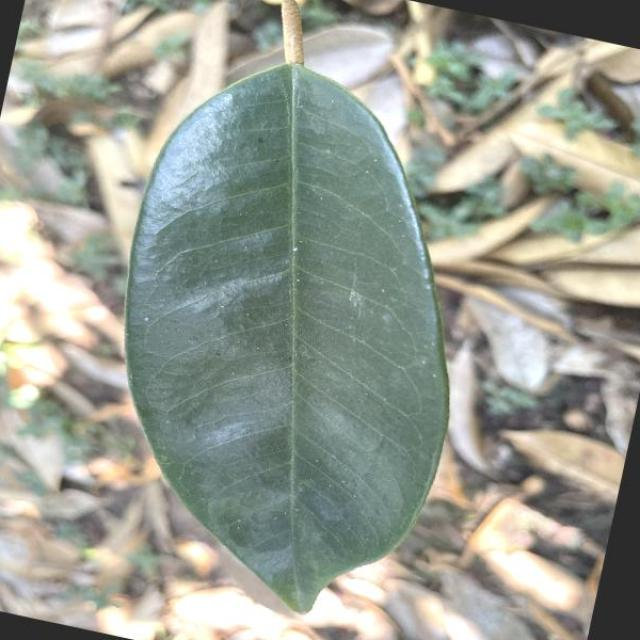No Disease: (48, 26, 525, 640)
